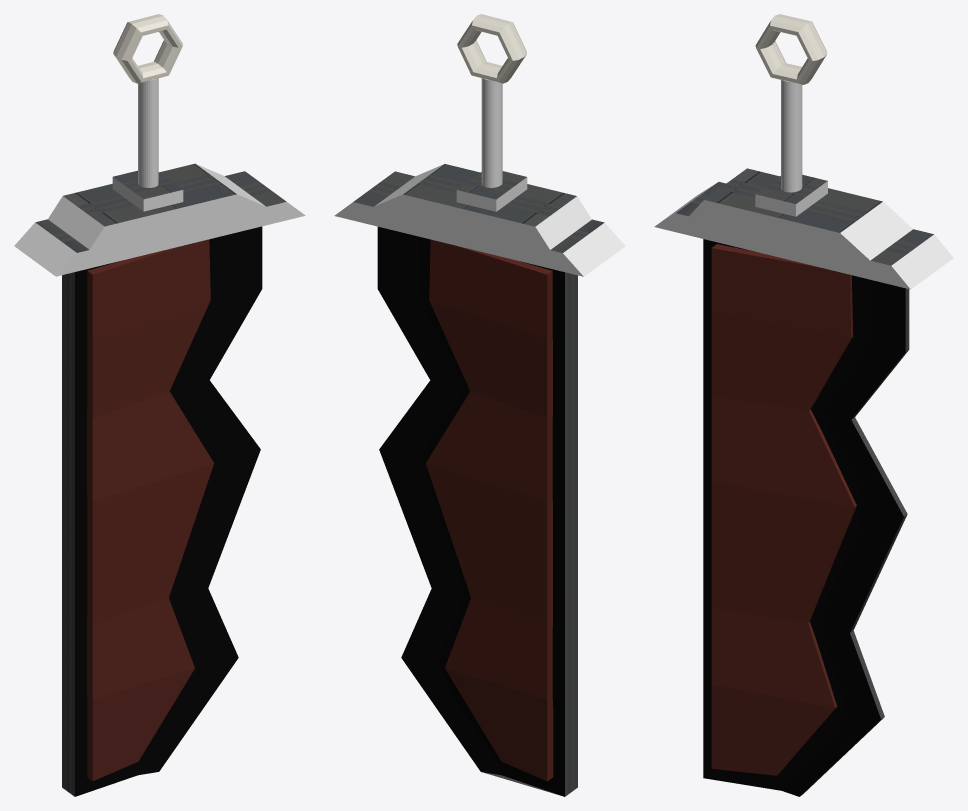
File: weapon tank PEDANG.fbx
3 renders of one model, left to right at view 1: azimuth 30°, elevation 25°; view 2: azimuth 150°, elevation 25°; view 3: azimuth 330°, elevation 25°, orthographic. The views are drawn at different scales.
Visible parts, largest first — view 1: Cube, Cube.001, Torus; view 2: Cube, Cube.001, Torus; view 3: Cube.001, Cube, Torus.
Part boxes in pixels (<box>): Cube: <box>14,163,305,796</box>; Cube.001: <box>87,239,214,781</box>; Torus: <box>113,14,182,187</box>; Cube: <box>334,164,625,796</box>; Cube.001: <box>426,239,553,781</box>; Torus: <box>457,14,526,187</box>; Cube.001: <box>711,244,856,775</box>; Cube: <box>654,168,953,796</box>; Torus: <box>755,14,827,192</box>.
Bounding box in the file's own units: 124 × 356 × 35.88.
5 materials, 1 textured.
